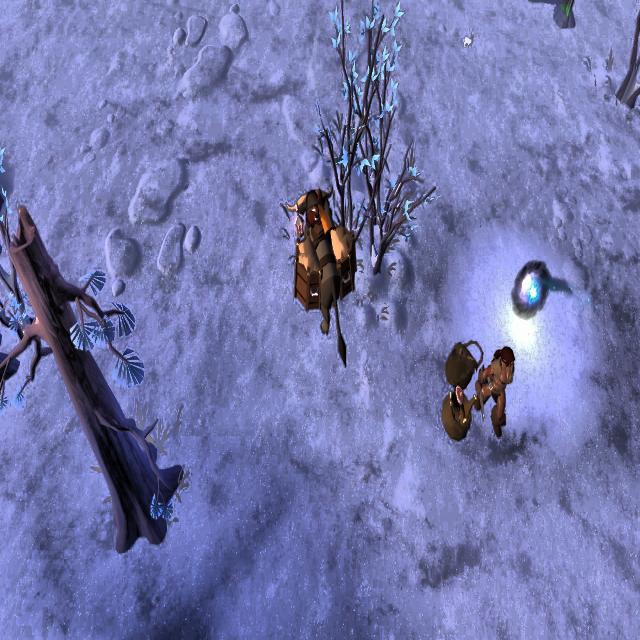enemy_factionKeeper: (469, 344, 514, 441)
